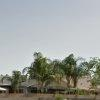Palm tree: (25, 41, 69, 92)
